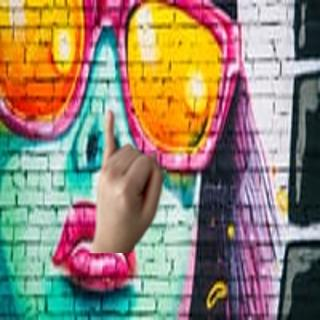FINE: (90, 108, 168, 234)
